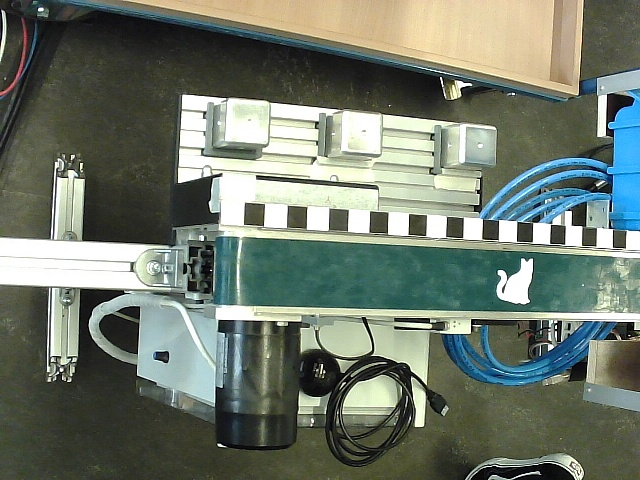cat: (497, 257, 534, 305)
